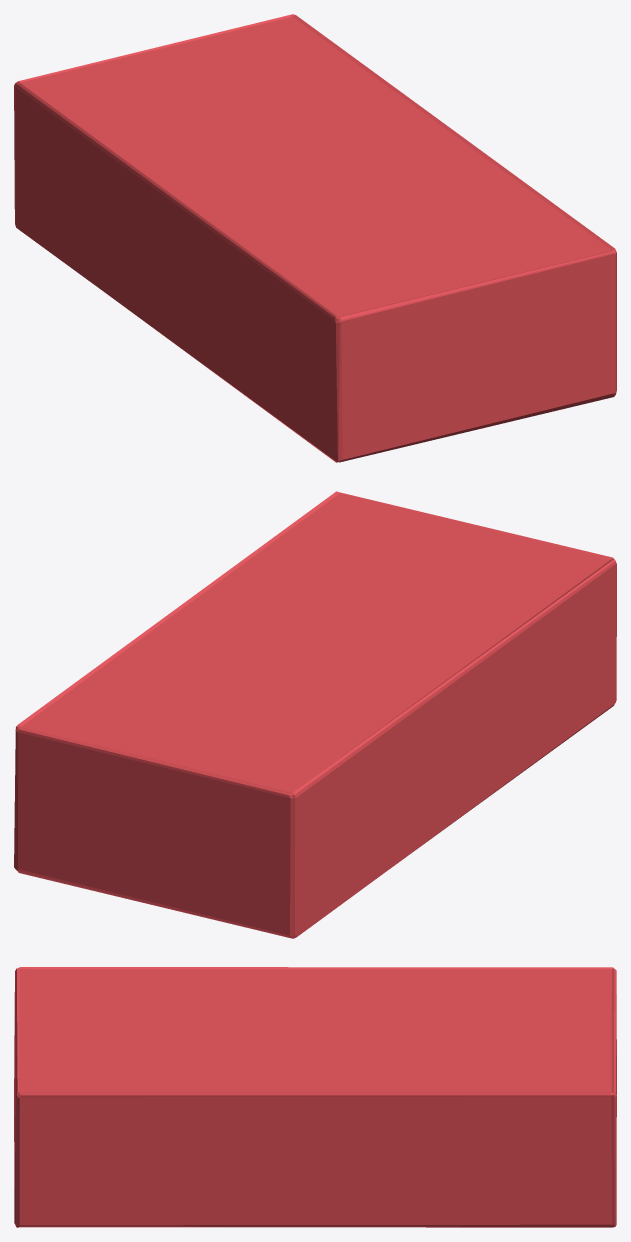
The model's file is foamBlock_red.fbx.
3 renders of one model, top to bottom at view 1: azimuth 30°, elevation 25°; view 2: azimuth 150°, elevation 25°; view 3: azimuth 270°, elevation 25°, orthographic. The views are drawn at different scales.
Visible parts, largest first — view 1: Cube.002; view 2: Cube.002; view 3: Cube.002.
Part boxes in pixels (left/top/right/bottom): Cube.002: left=14, top=14, right=616, bottom=462; Cube.002: left=14, top=491, right=616, bottom=938; Cube.002: left=14, top=967, right=616, bottom=1227.
Bounding box in the file's own units: 201 × 100 × 401.
